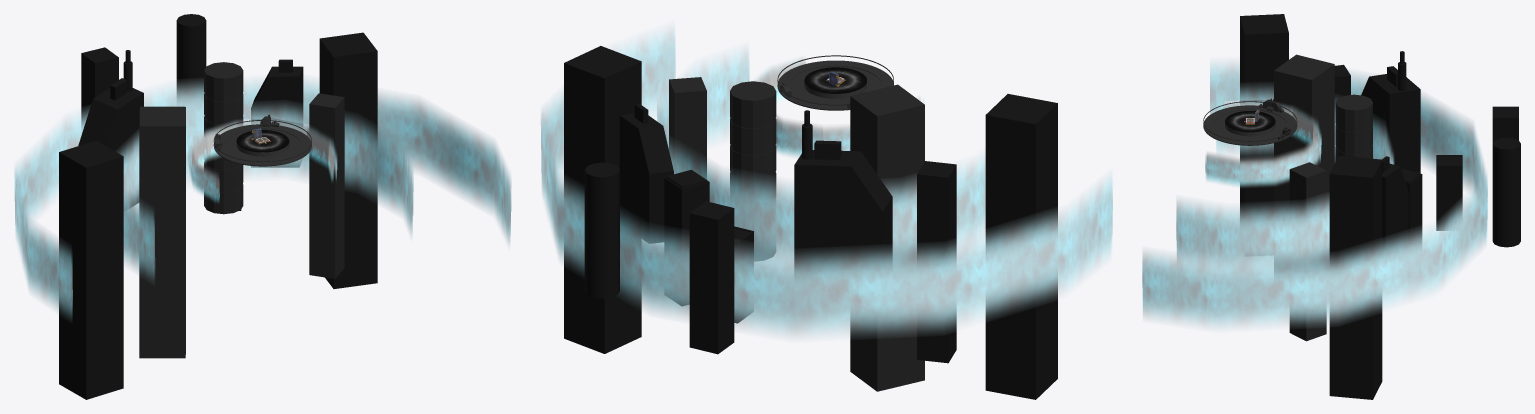
The model's file is menu.glb.
3 renders of one model, left to right at view 1: azimuth 30°, elevation 25°; view 2: azimuth 150°, elevation 25°; view 3: azimuth 270°, elevation 25°, orthographic. The views are drawn at different scales.
Parts seen in each view (by area): view 1: Cylinder.008, Cube.034, Cylinder.007, Cube.036, Cube.033, Cube.032, Cylinder.003, Cube.027, Cube.028, Cylinder.004, Cylinder.006, Cylinder.001 (+3 smaller); view 2: Cylinder.008, Cube.034, Cylinder.007, Cube.033, Cube.036, Cube.027, Cube.029, Cube.035, Cube.028, Cylinder.003, Cylinder.004, Cube.032 (+6 smaller); view 3: Cylinder.008, Cylinder.007, Cube.033, Cube.036, Cube.034, Cube.027, Cube.032, Cylinder.004, Cylinder.005, Cylinder.006, Cylinder.003, Cube.028 (+6 smaller).
Boxes of the visible parts, x1,y1,x2,y2 form: Cylinder.008: (14,77,511,320); Cube.034: (59,140,123,399); Cylinder.007: (118,103,413,282); Cube.036: (139,106,185,358); Cube.033: (319,32,377,288); Cube.032: (309,93,344,278); Cylinder.003: (204,62,243,214); Cube.027: (78,50,143,207); Cube.028: (251,59,303,167); Cylinder.004: (176,14,206,99); Cylinder.006: (191,120,333,202); Cylinder.001: (213,124,311,166); Cylinder.008: (540,23,1113,338); Cube.034: (985,94,1057,399); Cylinder.007: (657,45,985,263); Cube.033: (564,46,641,353); Cube.036: (850,84,924,391); Cube.027: (794,110,892,272); Cube.029: (689,201,734,354); Cube.035: (917,161,956,363); Cube.028: (619,104,673,243); Cylinder.003: (730,81,776,261); Cylinder.004: (584,162,619,298); Cube.032: (669,77,706,178); Cylinder.008: (1142,60,1487,329); Cylinder.007: (1176,85,1394,269); Cube.033: (1329,155,1382,399); Cube.036: (1274,54,1334,272); Cube.034: (1240,14,1288,221); Cube.027: (1361,51,1420,173); Cube.032: (1289,162,1326,341); Cylinder.004: (1492,137,1520,247); Cylinder.005: (1205,102,1321,186); Cylinder.006: (1206,101,1318,185); Cylinder.003: (1335,94,1372,161); Cube.028: (1382,156,1408,256).
Size of the model in its own units: 25.39 by 14.43 by 20.21.
16 materials, 10 textured.
